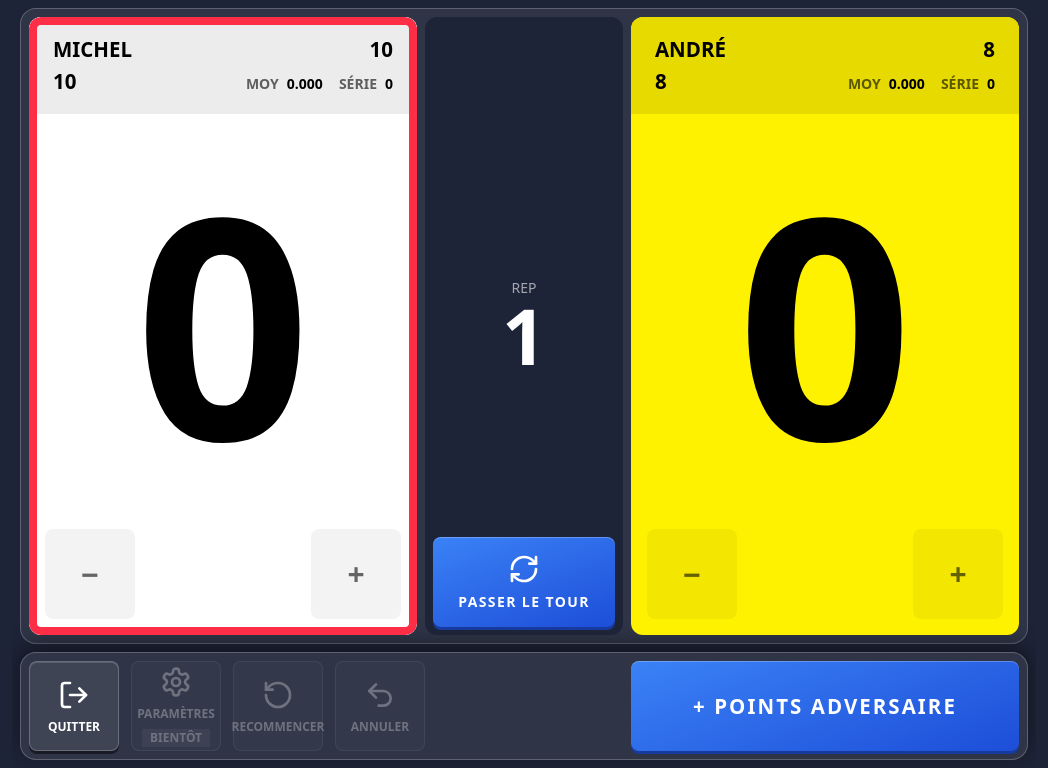
Test: GameView — fin de partie › leaves straight to the home screen when nothing was played
This screenshot has width=1048, height=768.
Press the mouse on the button with test id "exit-button" at (74, 706), box [29,661,119,751]
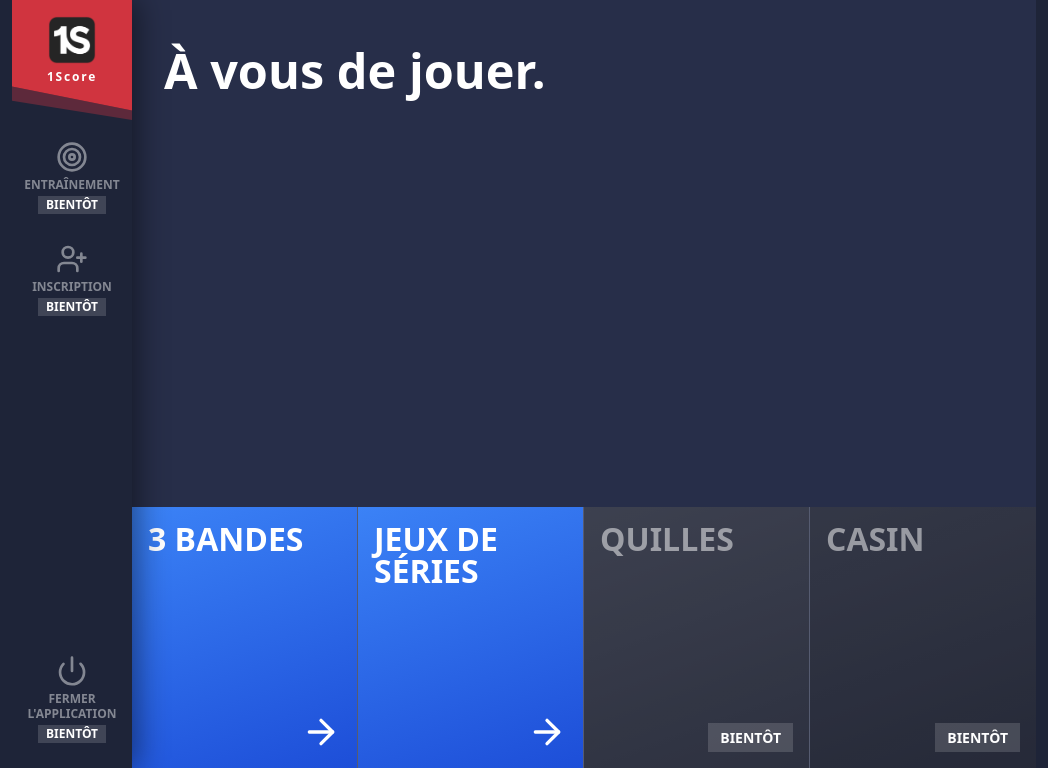
Check: the element with test id "step-category" is shown
